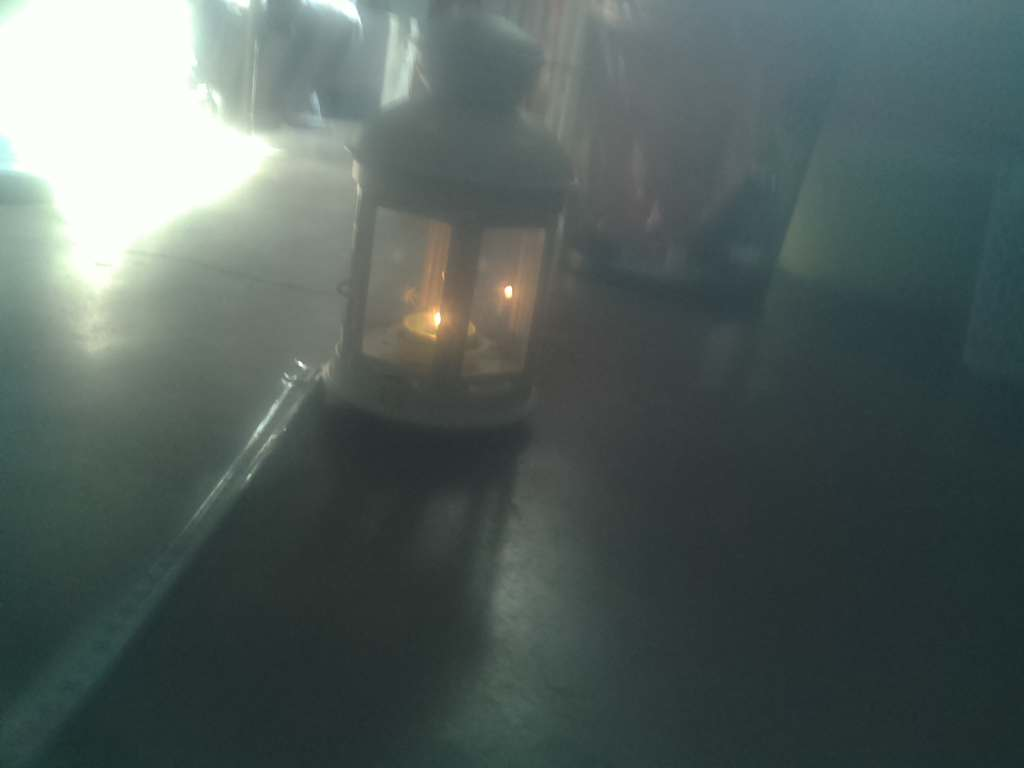fire: (386, 286, 481, 360)
